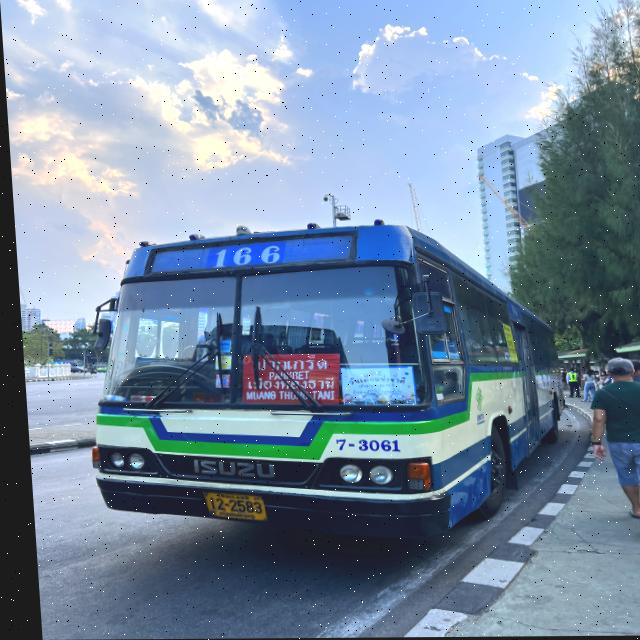BMTA-bus: (71, 222, 566, 545)
Bus-Line-Number: (201, 245, 286, 269)
Destination-Sign-Extra-Bus: (234, 350, 336, 407)
